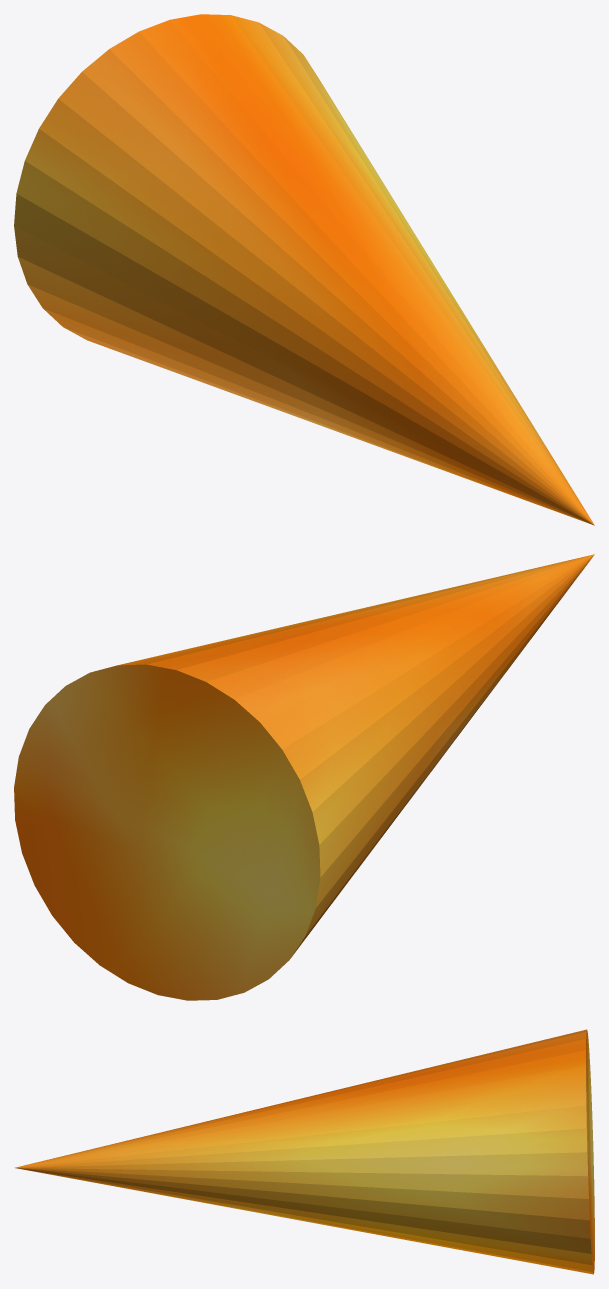
File: dart1.glb
The picture shows the model from 3 angles, top to bottom: view 1: azimuth 30°, elevation 25°; view 2: azimuth 150°, elevation 25°; view 3: azimuth 270°, elevation 25°; orthographic projection. The views are drawn at different scales.
Visible parts, largest first — view 1: Cone; view 2: Cone; view 3: Cone.
Boxes of the visible parts, x1,y1,x2,y2 form: Cone: (14, 14, 594, 525); Cone: (14, 554, 594, 1000); Cone: (14, 1029, 594, 1274).
Bounding box in the file's own units: 0.2659 × 0.2662 × 0.6315.
1 material, 1 textured.
